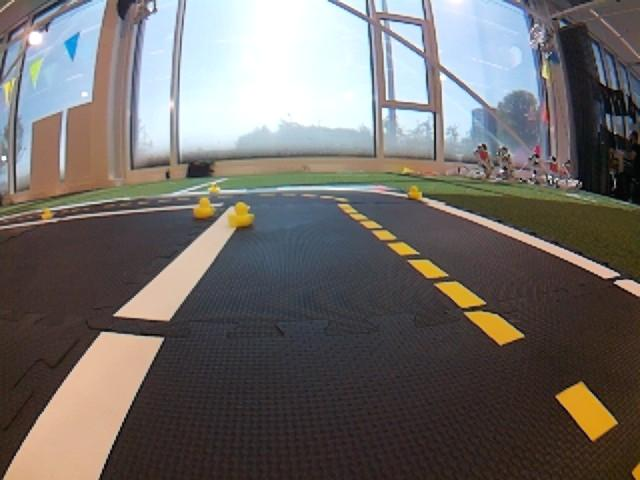Duckies: (226, 200, 255, 227), (192, 198, 215, 218), (408, 185, 423, 199), (41, 208, 55, 218), (210, 184, 221, 193)
